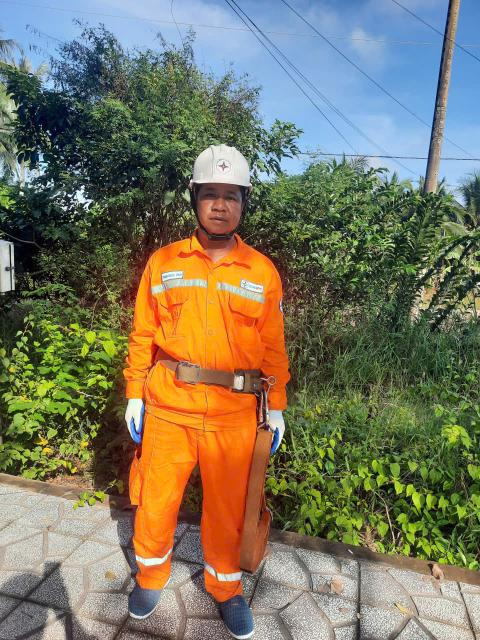gloves: (123, 397, 156, 456), (266, 393, 291, 452)
harness: (137, 334, 279, 401), (204, 572, 268, 640), (125, 535, 171, 622)
helmet: (178, 128, 274, 200)
